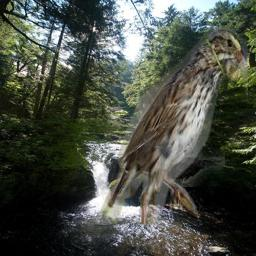Sparrow: (98, 27, 248, 224)
Woodpecker: (130, 86, 225, 187)
